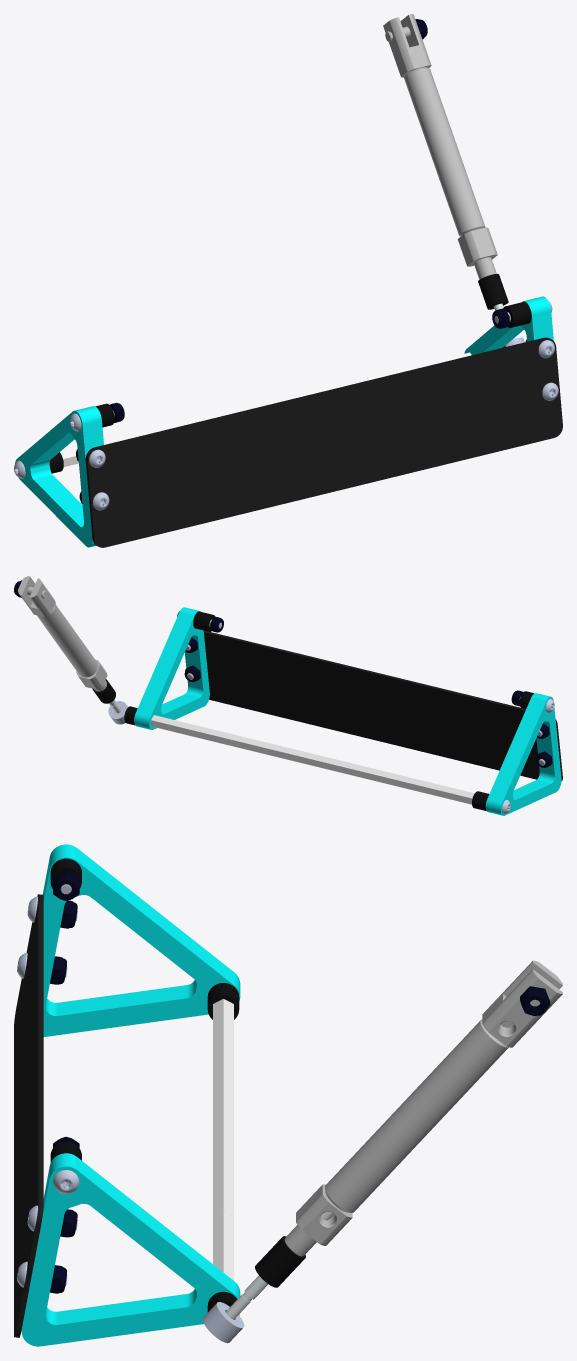
The model's file is Angle Changer_.fbx.
The picture shows the model from 3 angles, top to bottom: view 1: azimuth 30°, elevation 25°; view 2: azimuth 150°, elevation 25°; view 3: azimuth 270°, elevation 25°; orthographic projection. The views are drawn at different scales.
Parts seen in each view (by area): view 1: Body1 (×4), Body2, Body3; view 2: Body1 (×4), Body2 (×2), Body3; view 3: Body1 (×7), Body2 (×2), Body3 (×2).
Boxes of the visible parts, x1=… form: Body1 (×4): x1=15, y1=14, x2=562, y2=547; Body2: x1=60, y1=377, x2=368, y2=466; Body3: x1=478, y1=274, x2=508, y2=309; Body1 (×4): x1=18, y1=576, x2=562, y2=815; Body2 (×2): x1=151, y1=715, x2=474, y2=804; Body3: x1=193, y1=611, x2=214, y2=631; Body1 (×7): x1=14, y1=844, x2=562, y2=1346; Body2 (×2): x1=213, y1=999, x2=233, y2=1280; Body3 (×2): x1=207, y1=983, x2=305, y2=1287.
Bounding box in the file's own units: 10.06 × 5.24 × 6.55.
